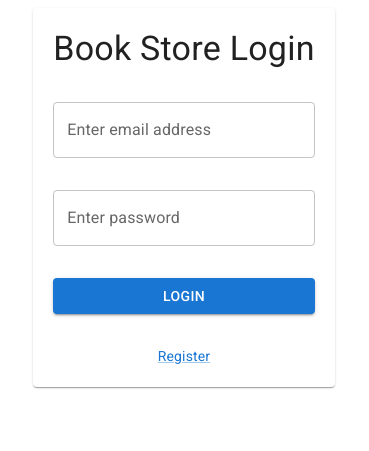
Login test › should show  email and password invalid error messange
Type "email invalid" into the field labelled "Enter email address". click: [184, 130]
box: [53, 102, 315, 158]
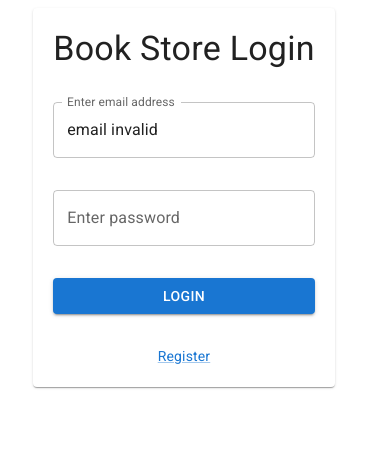
Type "wrongP" into the field labelled "Enter password". click: [184, 218]
box: [53, 190, 315, 246]
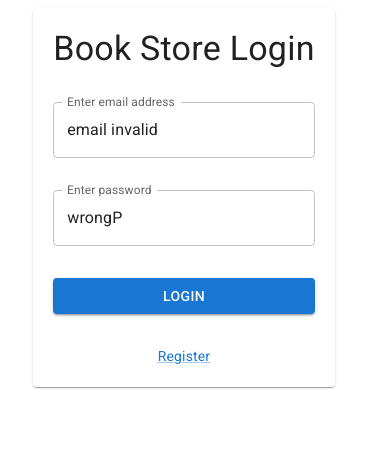
Click the button "Login". click: [184, 296]
box: [53, 278, 315, 314]
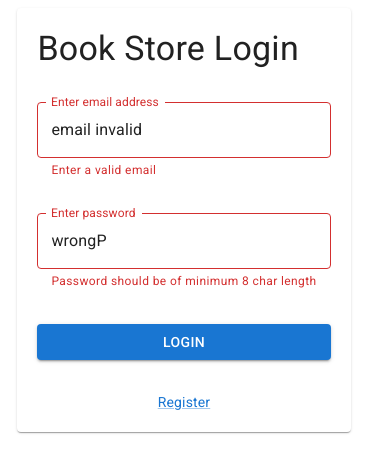
Check: the text "Enter a valid email" is shown, box [51, 163, 156, 177]
Check: the text "Password should be of minimum 8 char length" is shown, box [51, 272, 317, 292]
